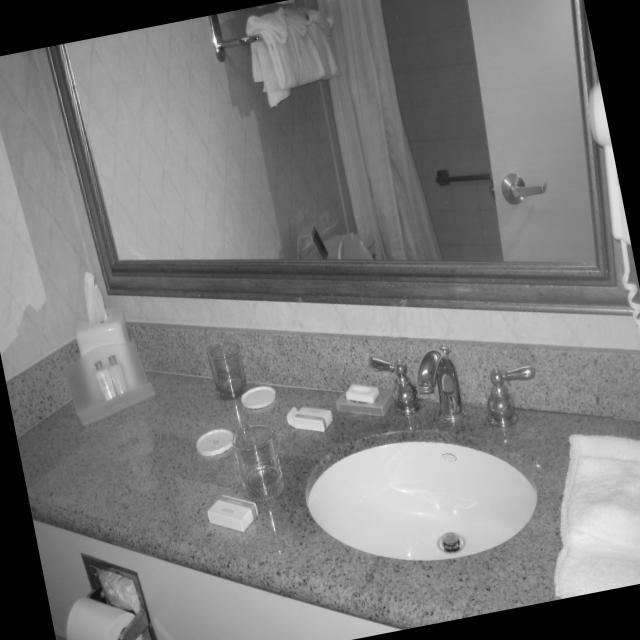coaster: (199, 429, 232, 462), (250, 386, 272, 409)
drain: (438, 532, 464, 554)
faucet handle: (418, 344, 468, 423)
glass ceiling: (233, 422, 285, 502), (207, 341, 249, 401)
mirror crop: (48, 0, 627, 310)
sink basin: (306, 428, 539, 562)
soap bottle: (207, 490, 259, 535), (346, 384, 380, 405)
toilet paper: (66, 595, 142, 640)
wall clock: (33, 0, 640, 421), (0, 50, 117, 439)
